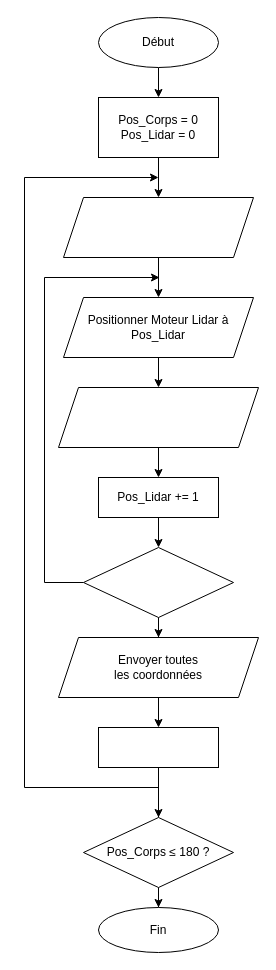
The diagram is 276 pixels wide and 970 high, and some of its shapes have lost their labels. The centre of each missing label's shape, as x and y in pixels:
Acquérir les coordonnées: [158,417]
Pos_Corps += 1: [158,747]
Pos_Lidar ≤ 180 ?: [158,582]
Positionner Moteur Corps à Pos_Corps: [158,227]
